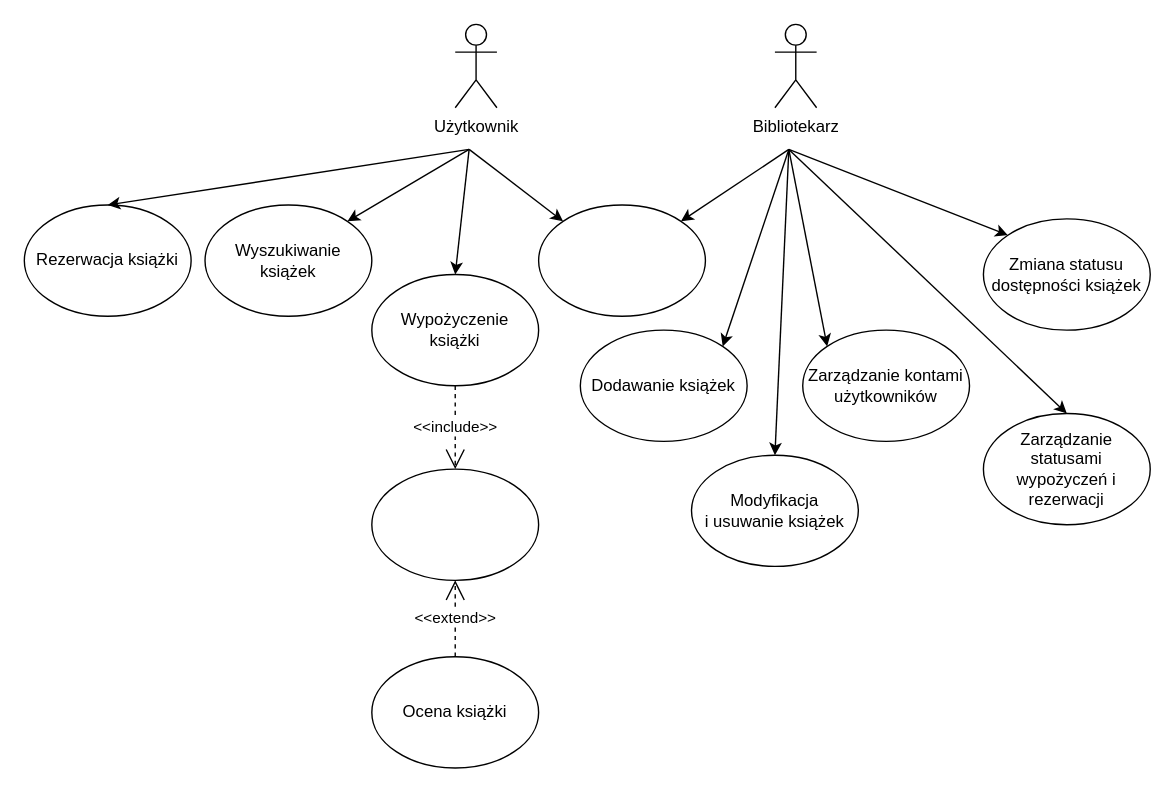
The diagram is 1175 pixels wide and 792 high, and some of its shapes have lost their labels. Each missing label, with the box of its shape:
Rejestracja i logowanie: (537, 204, 705, 316)
Zwrot książki: (370, 468, 539, 580)
